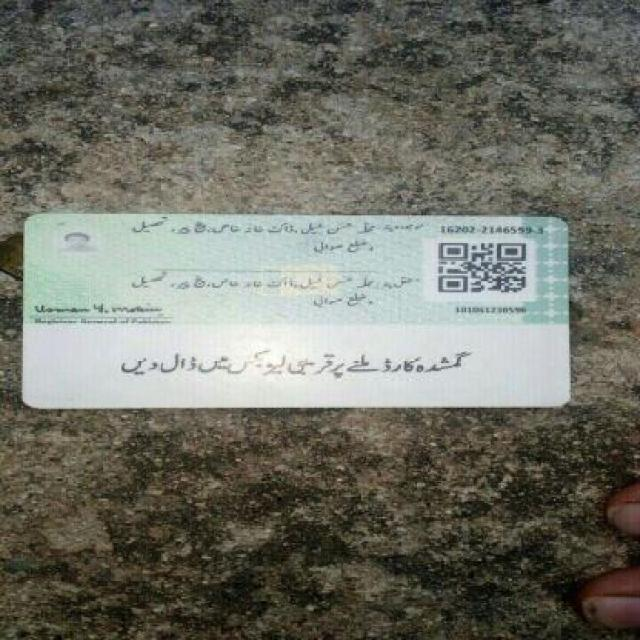Back: (14, 209, 581, 414)
